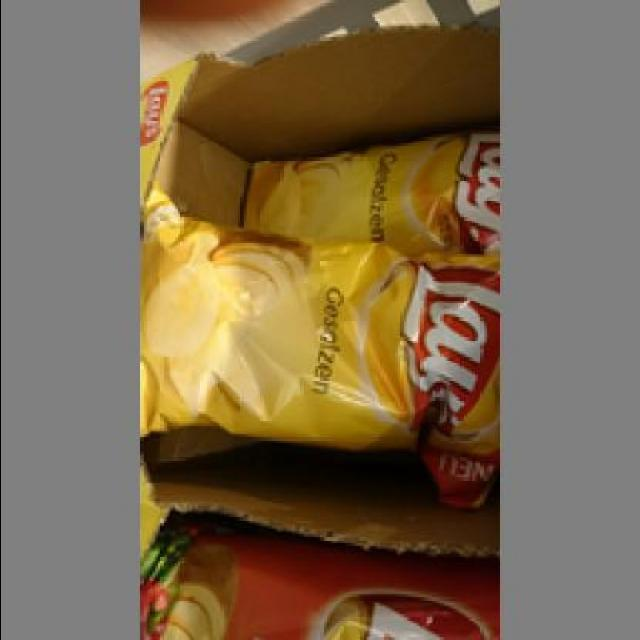Chips: (143, 227, 500, 450), (243, 130, 503, 253)
